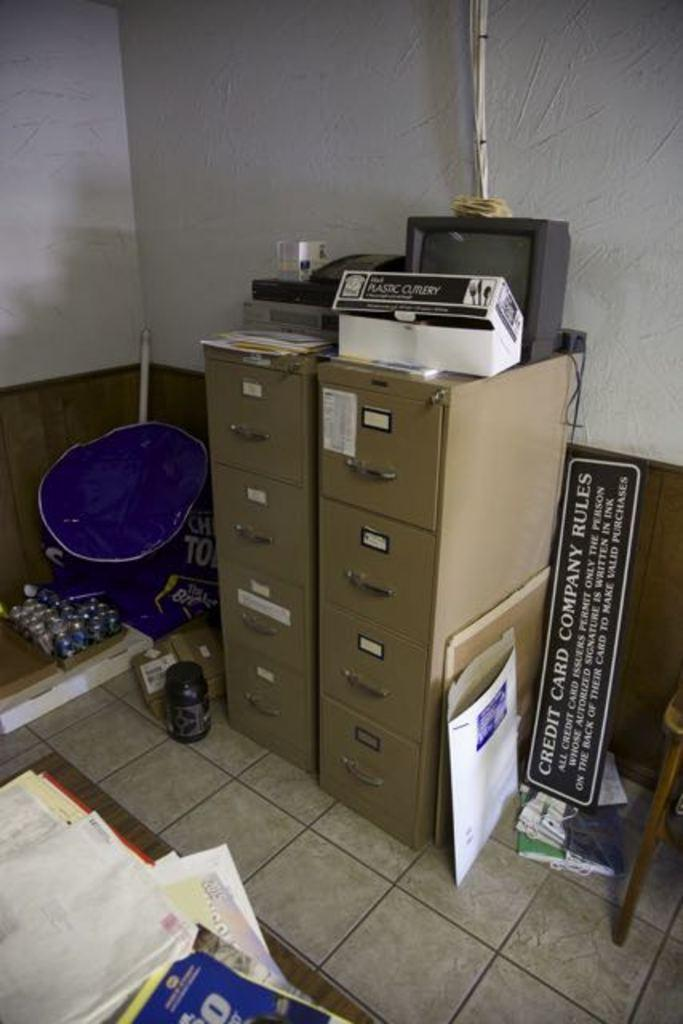Chair: (611, 664, 682, 947)
Computer-monitor: (402, 212, 571, 365)
